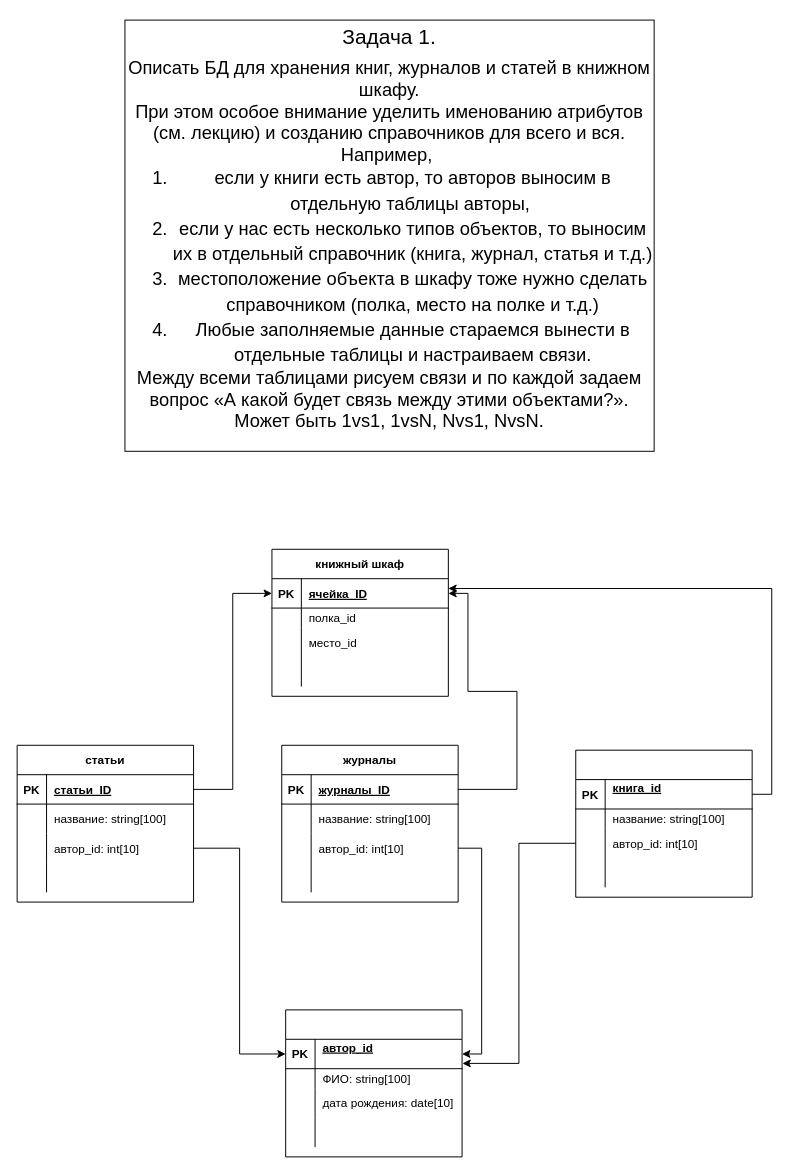
Some shapes in this 797 by 1174 pixel diagram are drawn without their labels. Each missing label, with the box of its shape:
авторы: (285, 1009, 462, 1157)
книги: (575, 749, 752, 897)
